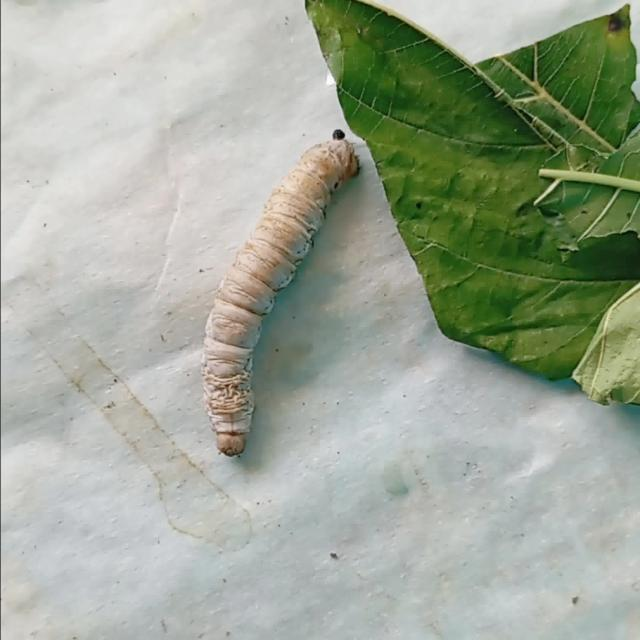Grasserie: (192, 121, 370, 464)
